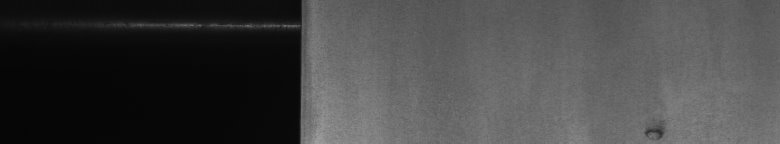fi: (637, 120, 672, 136)
